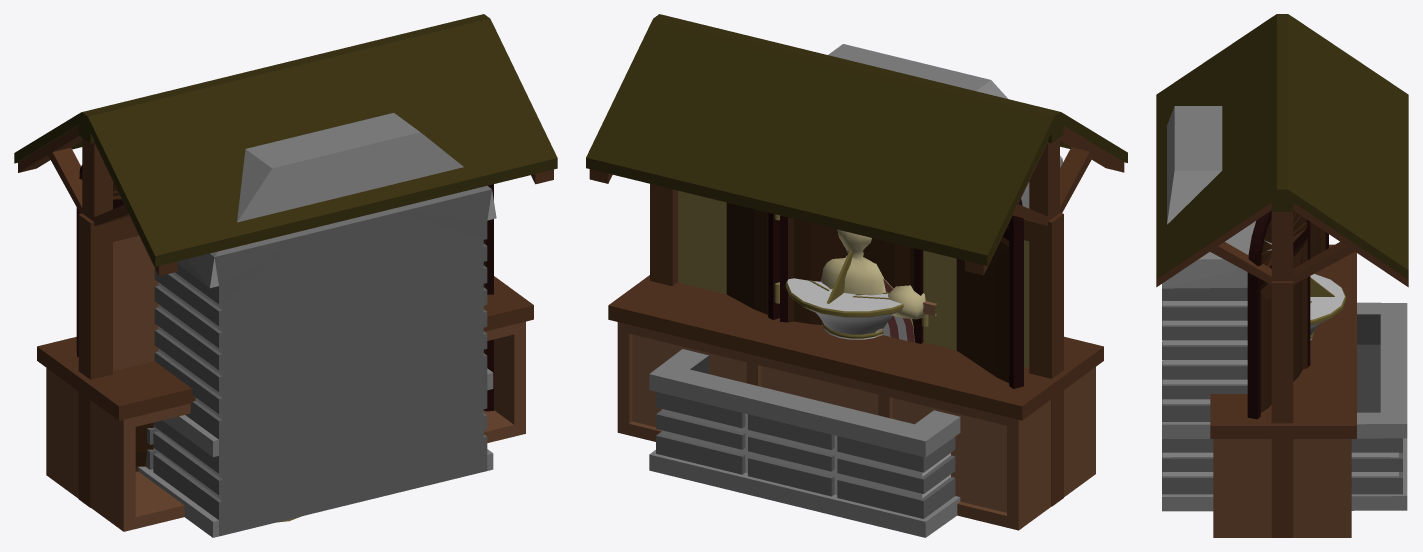
The model's file is MiscFuniture2.fbx.
3 renders of one model, left to right at view 1: azimuth 30°, elevation 25°; view 2: azimuth 150°, elevation 25°; view 3: azimuth 270°, elevation 25°, orthographic. The views are drawn at different scales.
Visible parts, largest first — view 1: Forge01A, MessageBoard02, ShopCounter-C, MessageBoard01, PrivacyScreenStatic, ShopCounter-S; view 2: MessageBoard02, ShopCounter-C, Forge01A, PrivacyScreenStatic, MessageBoard01, Sundial01A, TrainingDummy, PrivacyScreenMid, ShopCounter-S, TargetGround; view 3: MessageBoard02, Forge01A, ShopCounter-C, PrivacyScreenStatic, MessageBoard01, ShopCounter-S, Sundial01A.
Boxes of the visible parts, x1=… form: Forge01A: x1=138, y1=113, x2=496, y2=537; MessageBoard02: x1=14, y1=14, x2=557, y2=374; ShopCounter-C: x1=43, y1=282, x2=527, y2=531; MessageBoard01: x1=78, y1=213, x2=158, y2=507; PrivacyScreenStatic: x1=76, y1=165, x2=493, y2=471; ShopCounter-S: x1=37, y1=276, x2=533, y2=420; MessageBoard02: x1=586, y1=14, x2=1127, y2=374; ShopCounter-C: x1=614, y1=281, x2=1096, y2=530; Forge01A: x1=649, y1=44, x2=1062, y2=537; PrivacyScreenStatic: x1=726, y1=199, x2=1023, y2=388; MessageBoard01: x1=650, y1=184, x2=1063, y2=506; Sundial01A: x1=785, y1=250, x2=903, y2=339; TrainingDummy: x1=821, y1=229, x2=936, y2=337; PrivacyScreenMid: x1=863, y1=238, x2=928, y2=343; ShopCounter-S: x1=608, y1=275, x2=1103, y2=420; TargetGround: x1=882, y1=279, x2=915, y2=342; MessageBoard02: x1=1156, y1=14, x2=1408, y2=287; Forge01A: x1=1162, y1=106, x2=1407, y2=511; ShopCounter-C: x1=1210, y1=247, x2=1356, y2=537; PrivacyScreenStatic: x1=1247, y1=210, x2=1328, y2=419; MessageBoard01: x1=1271, y1=281, x2=1293, y2=537; ShopCounter-S: x1=1210, y1=244, x2=1356, y2=438; Sundial01A: x1=1310, y1=274, x2=1346, y2=340.
Size of what is drawn, in the model's own units: 3.09 by 3.23 by 1.82.
